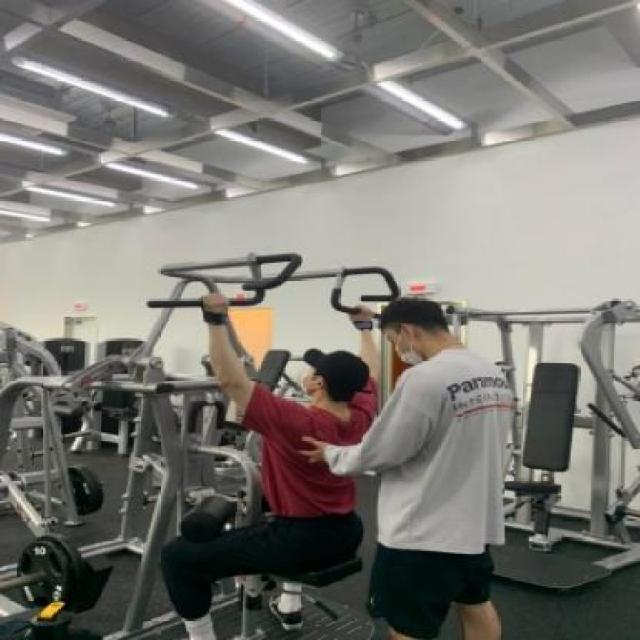Lat Pull Down: (52, 243, 485, 639)
